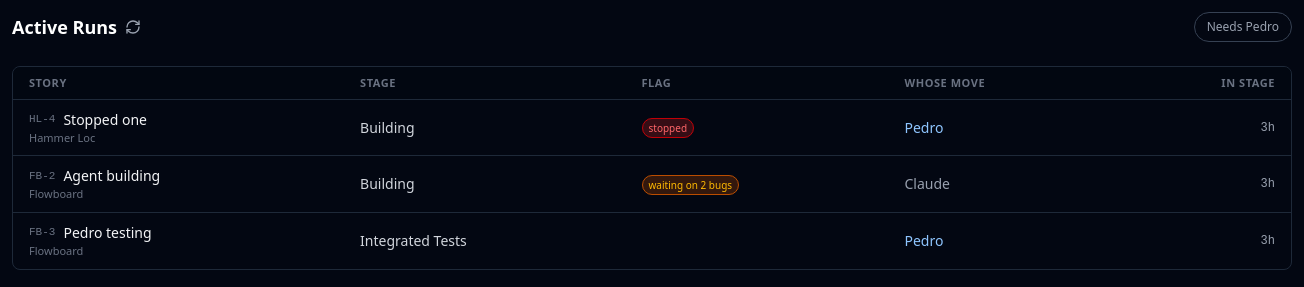
Test: ActiveRunsPage › Needs Pedro keeps only the Stories assigned to him
Expected: the text "Agent building" is shown, [63,166,160,186]
Click the button "Needs Pedro" at (1243, 27), box [1194,12,1292,42]
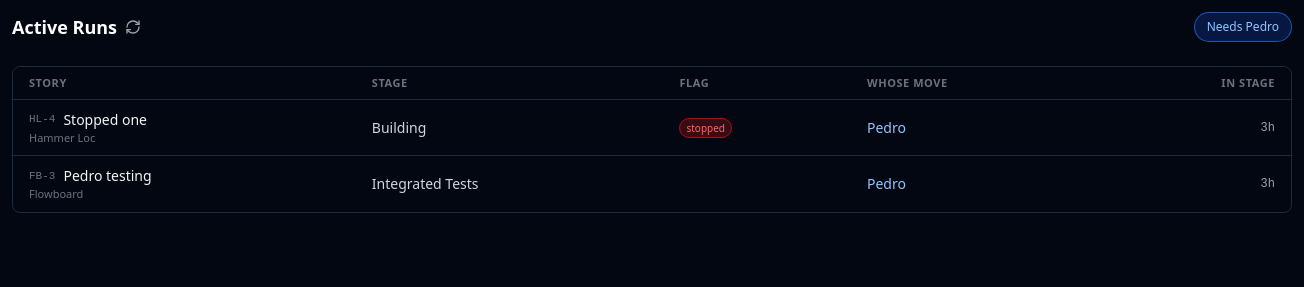
Expected: the text "Stopped one" is shown, [63,110,147,130]
Now the text "Agent building" is gone
